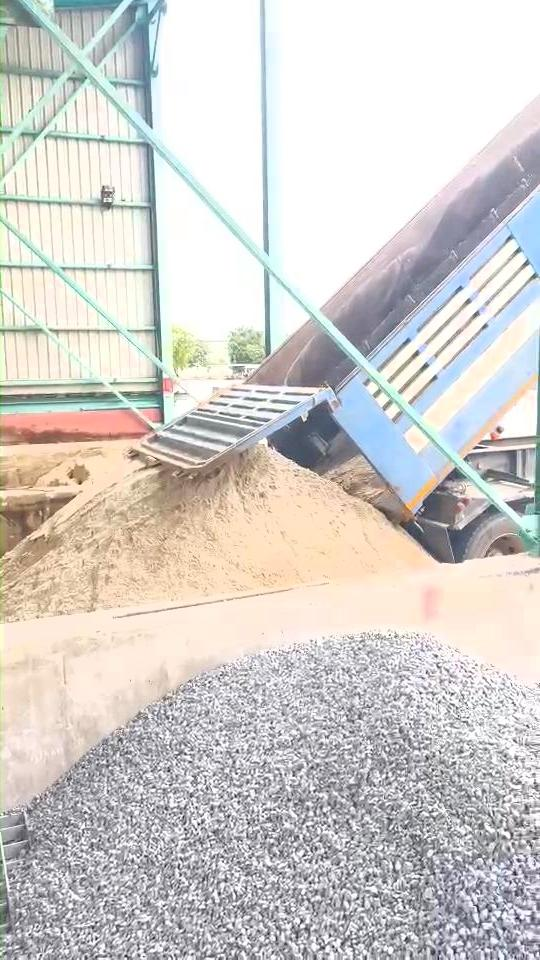gravel: (4, 632, 540, 957)
sand: (4, 446, 432, 620), (326, 455, 404, 521), (37, 454, 117, 486)
